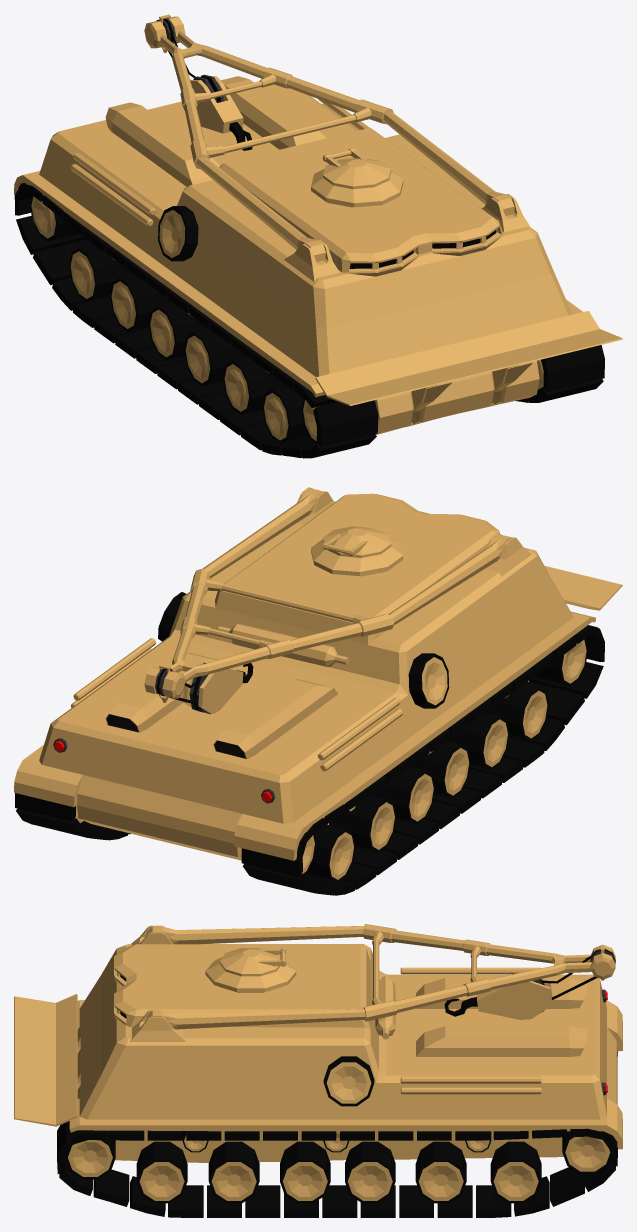
The picture shows the model from 3 angles, top to bottom: view 1: azimuth 30°, elevation 25°; view 2: azimuth 150°, elevation 25°; view 3: azimuth 270°, elevation 25°; orthographic projection. The views are drawn at different scales.
Parts seen in each view (by area): view 1: Plane.006, Cylinder.004, Cylinder.005, Plane.007, Cube.005, Plane.008; view 2: Plane.006, Cylinder.004, Cylinder.005, Cube.005, Plane.007, Plane.008; view 3: Plane.006, Cylinder.004, Cylinder.005, Plane.007, Cube.005, Plane.008.
Part boxes in pixels (bbox=[...]): Plane.006: bbox=[14, 76, 582, 434]; Cylinder.004: bbox=[14, 183, 604, 458]; Cylinder.005: bbox=[144, 16, 514, 262]; Plane.007: bbox=[315, 311, 622, 411]; Cube.005: bbox=[163, 19, 252, 150]; Plane.008: bbox=[323, 148, 391, 189]; Plane.006: bbox=[14, 487, 595, 860]; Cylinder.004: bbox=[15, 625, 604, 895]; Cylinder.005: bbox=[144, 488, 511, 698]; Cube.005: bbox=[157, 662, 253, 714]; Plane.007: bbox=[544, 566, 622, 610]; Plane.008: bbox=[323, 526, 391, 557]; Plane.006: bbox=[69, 925, 622, 1162]; Cylinder.004: bbox=[57, 1051, 617, 1217]; Cylinder.005: bbox=[146, 924, 615, 1029]; Plane.007: bbox=[14, 994, 77, 1126]; Cube.005: bbox=[444, 950, 615, 1019]; Plane.008: bbox=[219, 948, 286, 976].
Size of the model in its own units: 451 by 344 by 916.
